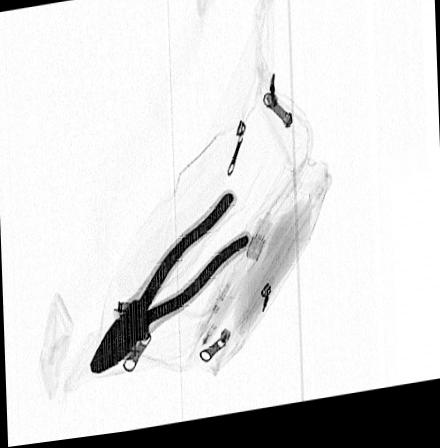Pliers: (88, 194, 251, 377)
